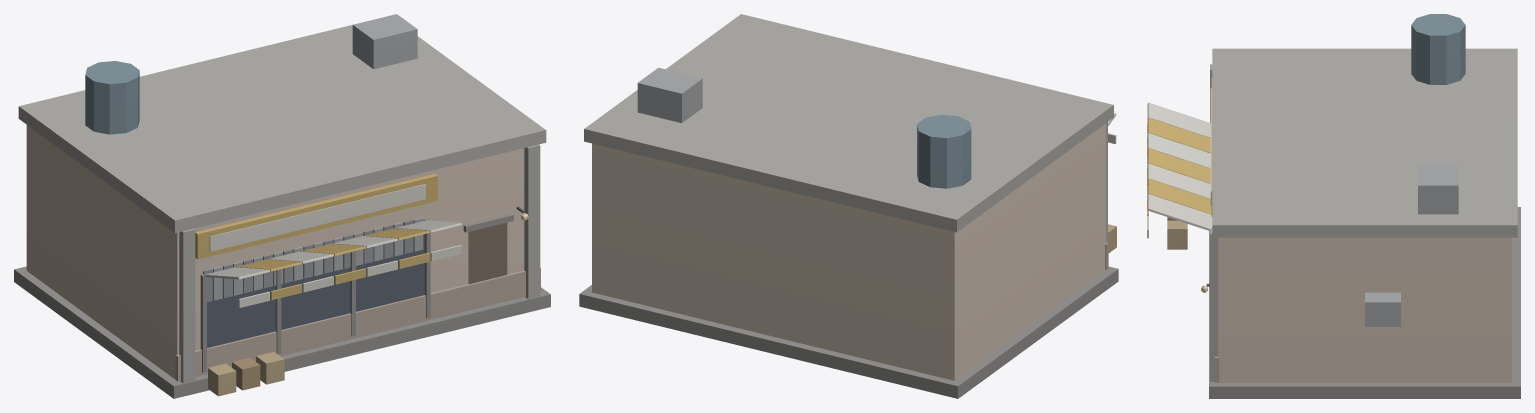
The model's file is sv_shop_c.glb.
3 views of the same model, side by side, from view 1: azimuth 30°, elevation 25°; view 2: azimuth 150°, elevation 25°; view 3: azimuth 270°, elevation 25° (orthographic). The views are drawn at different scales.
Visible parts, largest first — view 1: sv_shop_c; view 2: sv_shop_c; view 3: sv_shop_c.
Boxes of the visible parts, <box> form: sv_shop_c: <box>14,14,550,398</box>; sv_shop_c: <box>579,14,1118,398</box>; sv_shop_c: <box>1147,14,1520,398</box>.
Size of the model in its own units: 9.7 by 5.4 by 8.27.
